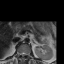CCS_normal: (22, 50, 24, 58)
LFS_normal: (26, 51, 28, 56)
LLS_normal: (24, 51, 26, 57)
RFS_normal: (19, 51, 21, 56)
RLS_normal: (21, 51, 22, 57)
